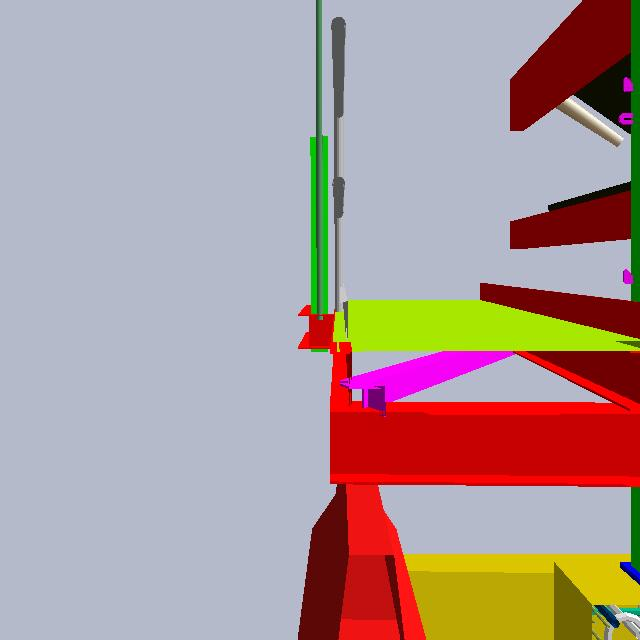Poste: (308, 1, 327, 373)
Soporte: (286, 130, 359, 359)
